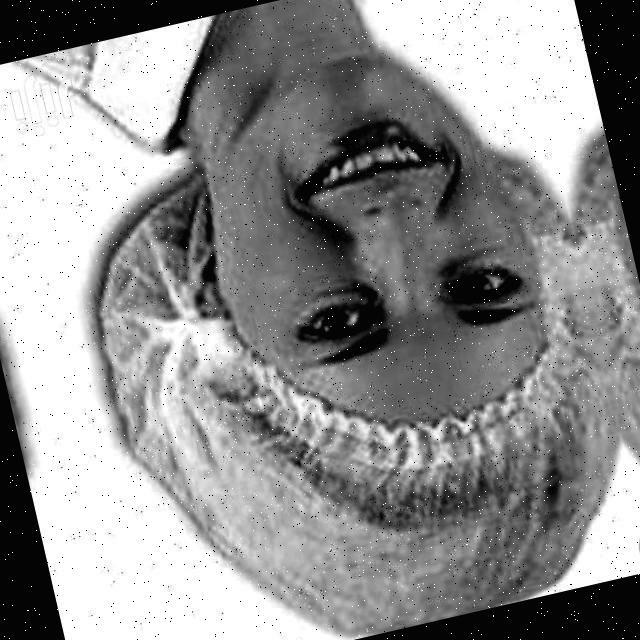gloves: (160, 425, 574, 607)
no_hairnet: (271, 82, 467, 252)
